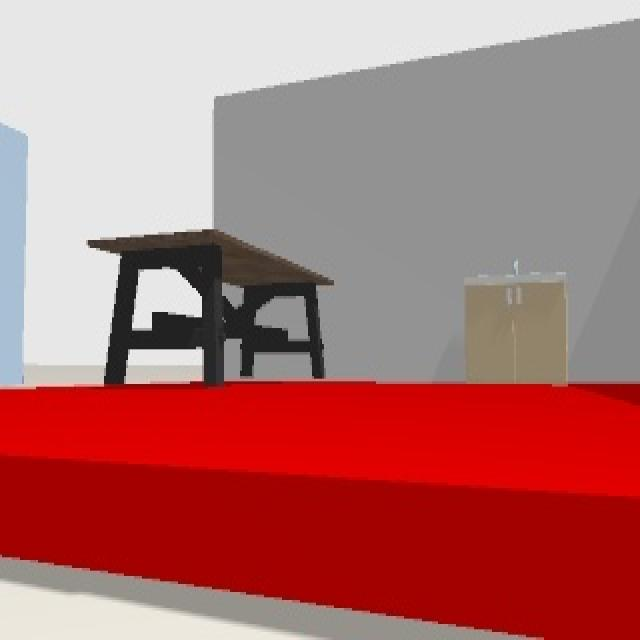dining: (90, 237, 329, 383)
